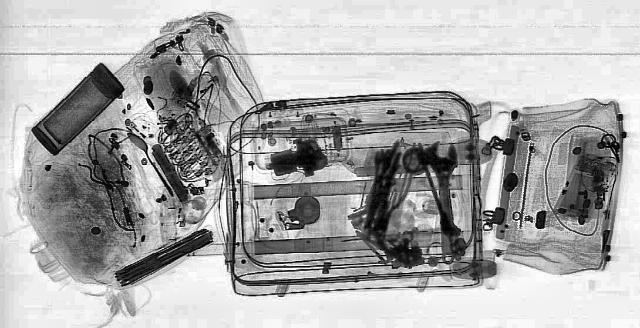Wrench: (420, 140, 470, 264)
